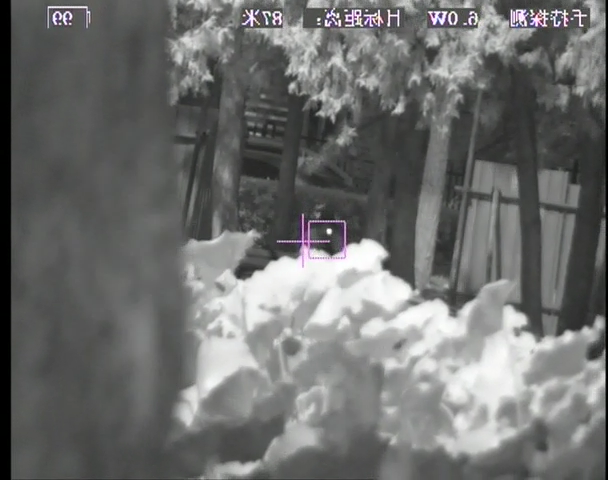my: (325, 227, 335, 238)
